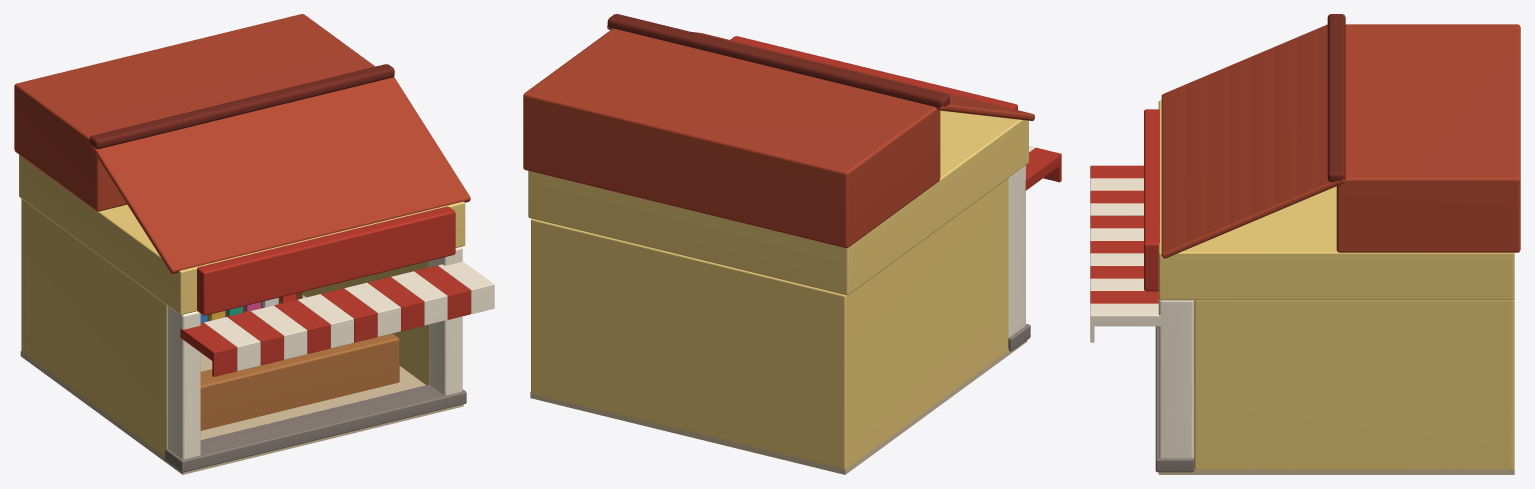
The model's file is kiosk_6.glb.
3 renders of one model, left to right at view 1: azimuth 30°, elevation 25°; view 2: azimuth 150°, elevation 25°; view 3: azimuth 270°, elevation 25°, orthographic. The views are drawn at different scales.
Visible parts, largest first — view 1: RoofBack, WallL, SignBoard, Counter, WallTop, Plinth, Tiles0, Tiles3, Tiles6, Tiles1, Tiles5, Tiles2 (+32 smaller); view 2: RoofBack, WallBack, WallL, WallTop, Ridge, Floor, Pillar0.0, SignBoard, Awn0, Tiles0; view 3: WallR, RoofBack, WallTop, Pillar5.6, Tiles0, Tiles3, Tiles1, Tiles2, Tiles4, Tiles6, Tiles5, Ridge (+17 smaller).
Part boxes in pixels (box(x1,y1,x2,y2)): RoofBack: box(14, 14, 374, 211); WallL: box(21, 199, 167, 456); SignBoard: box(197, 206, 455, 315); Counter: box(200, 333, 399, 430); WallTop: box(19, 155, 465, 314); Plinth: box(165, 384, 466, 472); Tiles0: box(160, 181, 470, 273); Tiles3: box(130, 132, 439, 223); Tiles6: box(99, 84, 409, 176); Tiles1: box(150, 164, 459, 256); Tiles5: box(109, 101, 419, 192); Tiles2: box(140, 149, 449, 240); RoofBack: box(523, 28, 940, 247); WallBack: box(531, 218, 849, 468); WallL: box(834, 178, 1008, 468); WallTop: box(528, 110, 1028, 295); Ridge: box(607, 14, 949, 107); Floor: box(530, 340, 1027, 474); Pillar0.0: box(1008, 165, 1025, 337); SignBoard: box(730, 36, 1017, 109); Awn0: box(1025, 148, 1060, 190); Tiles0: box(692, 32, 1034, 120); WallR: box(1194, 300, 1512, 469); RoofBack: box(1336, 24, 1520, 252); WallTop: box(1158, 100, 1514, 300); Pillar5.6: box(1158, 299, 1194, 458); Tiles0: box(1161, 85, 1187, 258); Tiles3: box(1229, 56, 1254, 229); Tiles1: box(1185, 75, 1209, 248); Tiles2: box(1207, 66, 1232, 239); Tiles4: box(1252, 47, 1276, 220); Tiles6: box(1296, 28, 1320, 201); Tiles5: box(1274, 38, 1298, 211); Ridge: box(1327, 14, 1345, 182).
Size of the model in its own units: 6.4 by 5.71 by 7.25.
